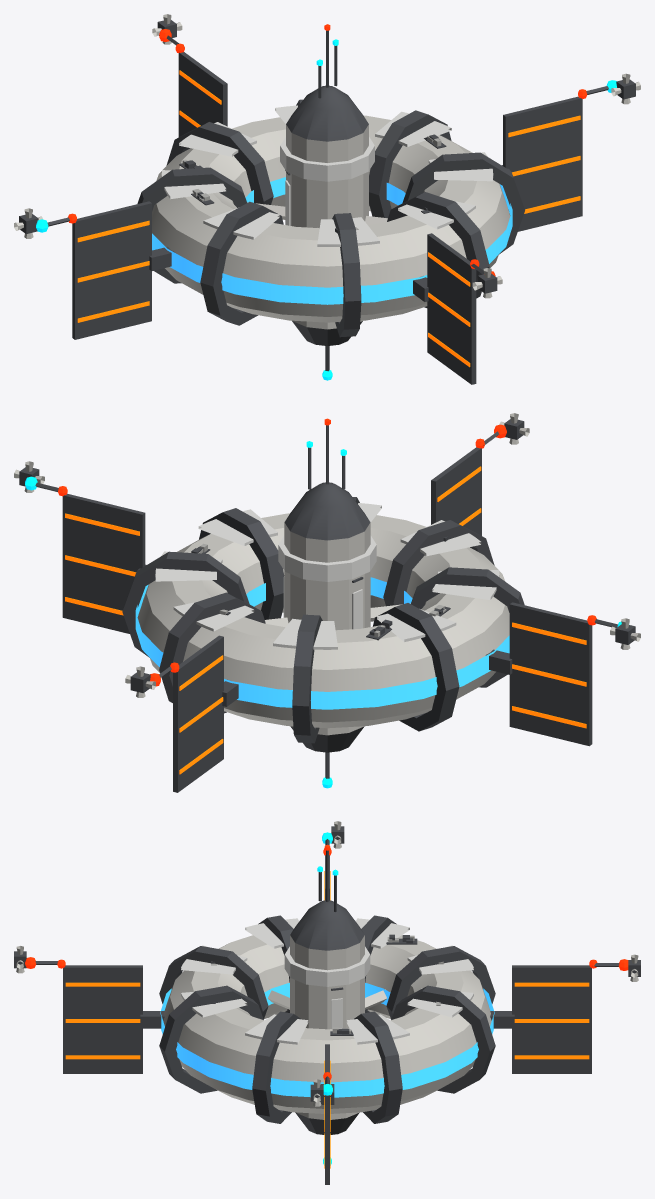
The model's file is powerplant.glb.
3 renders of one model, top to bottom at view 1: azimuth 30°, elevation 25°; view 2: azimuth 150°, elevation 25°; view 3: azimuth 270°, elevation 25°, orthographic. The views are drawn at different scales.
Parts seen in each view (by area): view 1: powerplant; view 2: powerplant; view 3: powerplant.
Boxes of the visible parts, x1=… form: powerplant: x1=14, y1=14, x2=640, y2=384; powerplant: x1=14, y1=413, x2=640, y2=792; powerplant: x1=14, y1=821, x2=640, y2=1184.
Size of the model in its own units: 2 by 1.11 by 1.97.
